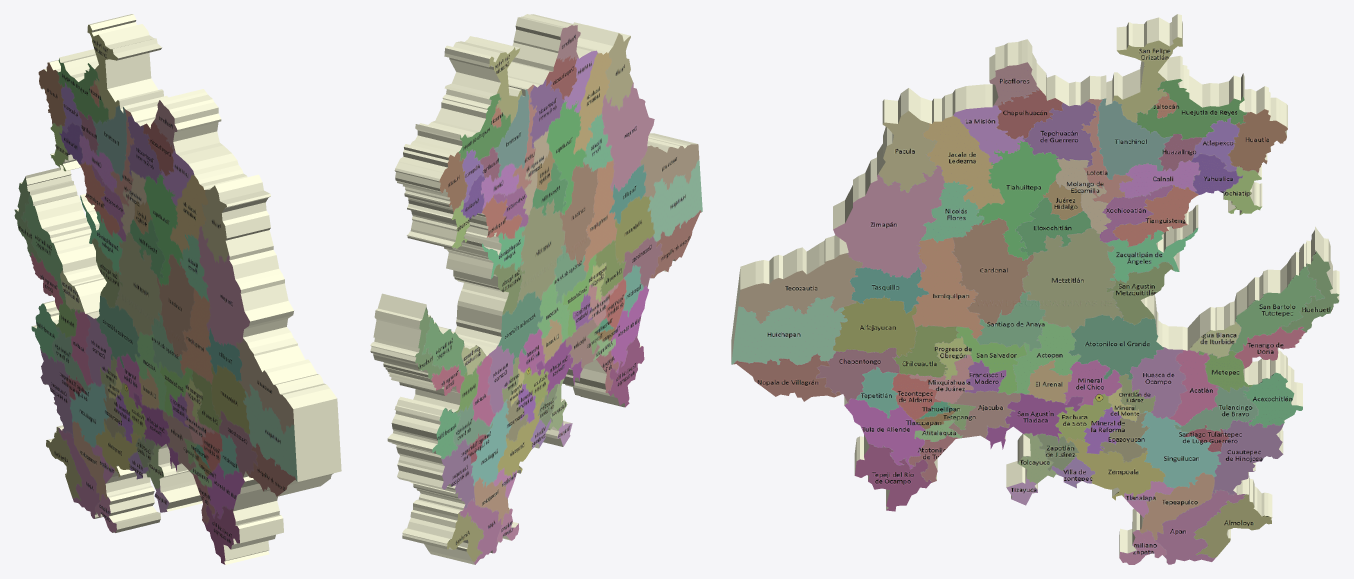
The model's file is hidalgo.glb.
The picture shows the model from 3 angles, left to right: view 1: azimuth 30°, elevation 25°; view 2: azimuth 150°, elevation 25°; view 3: azimuth 270°, elevation 25°; orthographic projection. The views are drawn at different scales.
Parts seen in each view (by area): view 1: Plano; view 2: Plano; view 3: Plano.
Boxes of the visible parts, left/top/right/bottom form: Plano: left=14, top=14, right=341, bottom=564; Plano: left=370, top=14, right=702, bottom=564; Plano: left=731, top=14, right=1339, bottom=564.
Size of the model in its own units: 0.1107 by 1.18 by 1.23.
Materials: 1 (1 with a texture image).
